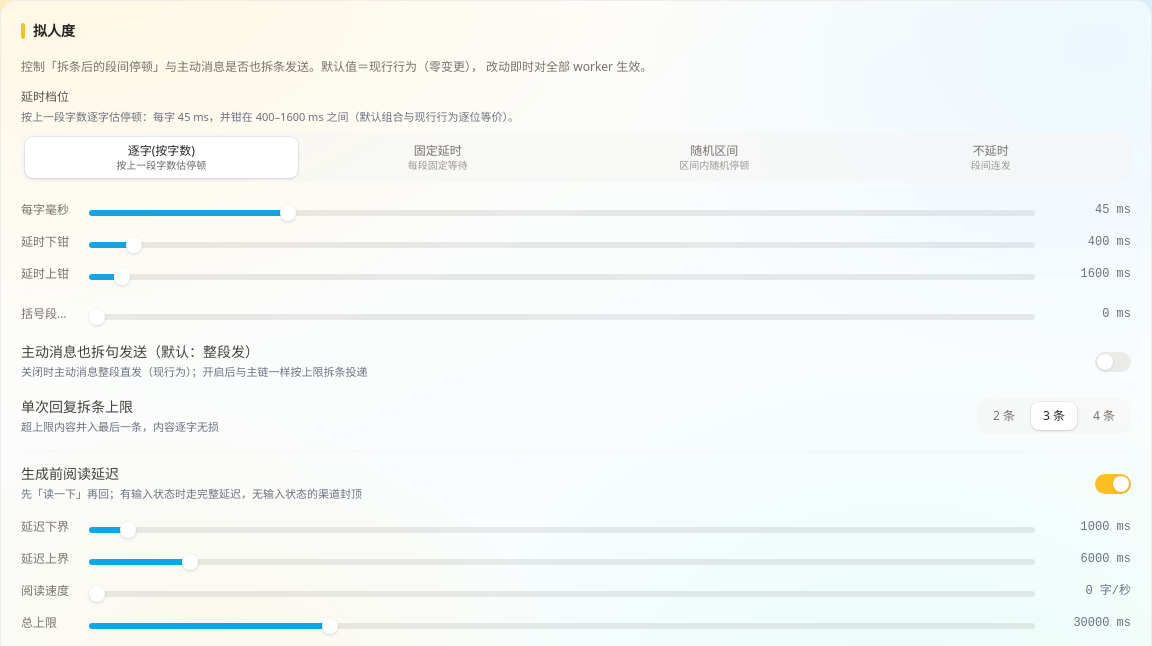
Test case: 控件呈现 › random 档位显示上下界；off 档位显示连发说明且无档位参数
Expected: the button "逐字(按字数) 按上一段字数估停顿" is shown, left=25, top=137, right=298, bottom=178
Click the button "随机区间 区间内随机停顿" at (714, 158), box left=578, top=137, right=850, bottom=178
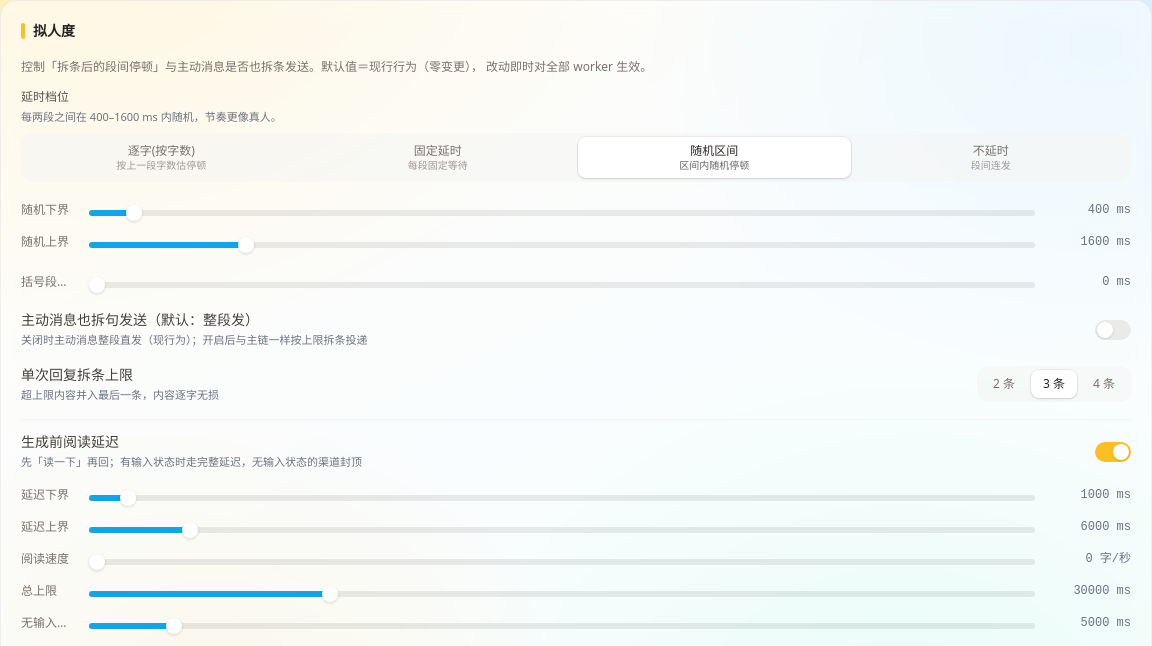
Expected: the slider labelled "随机下界" is shown, left=89, top=210, right=1035, bottom=216
Expected: the slider labelled "随机上界" is shown, left=89, top=242, right=1035, bottom=248
Click the button "不延时 段间连发" at (991, 158), box left=854, top=137, right=1127, bottom=178
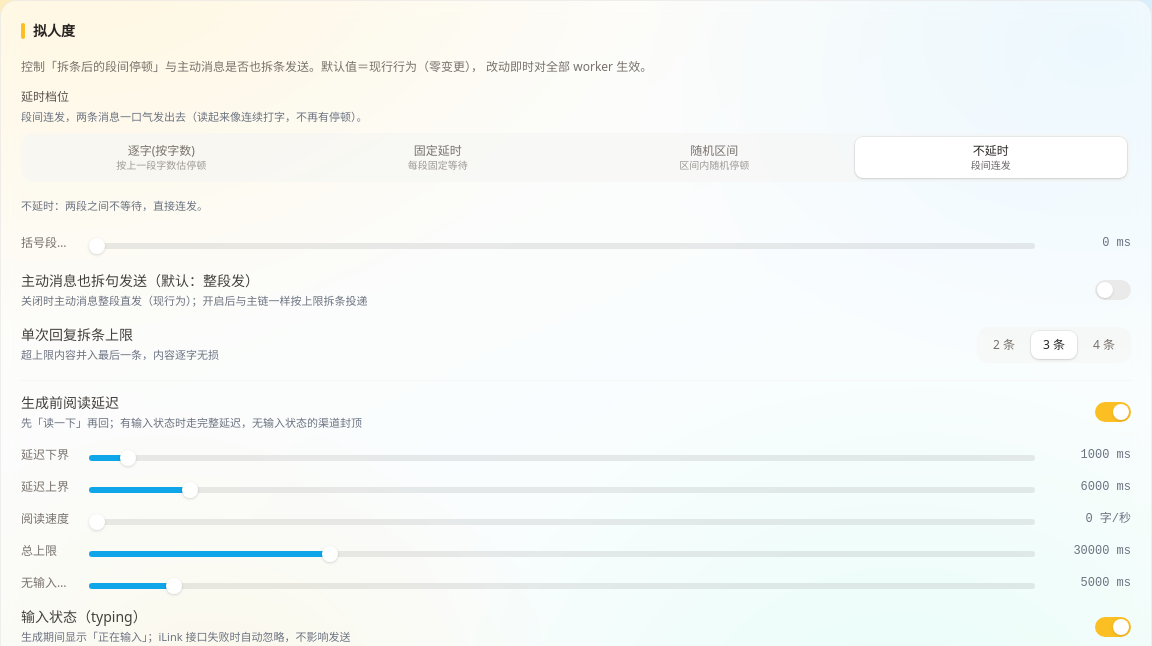
Expected: the label labelled "每字毫秒" is not shown
Expected: the text "不延时：两段之间不等待，直接连发。" is shown, left=21, top=198, right=208, bottom=213
Expected: the element with test id "humanize-random-params" is gone
